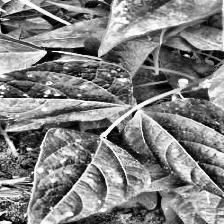Bean Rust: (22, 127, 152, 224), (120, 101, 224, 206), (0, 58, 127, 120), (98, 0, 224, 55)
